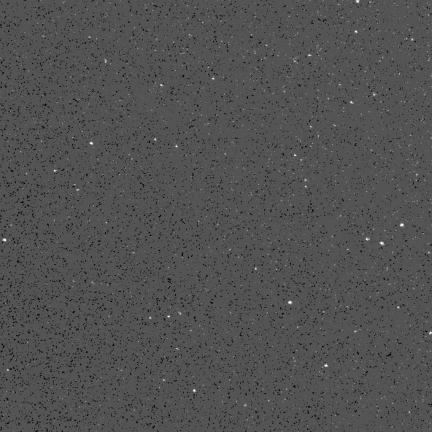blob: (400, 223, 404, 227), (380, 242, 384, 245), (90, 142, 93, 145), (3, 238, 6, 241), (289, 301, 292, 304), (366, 238, 370, 240)
